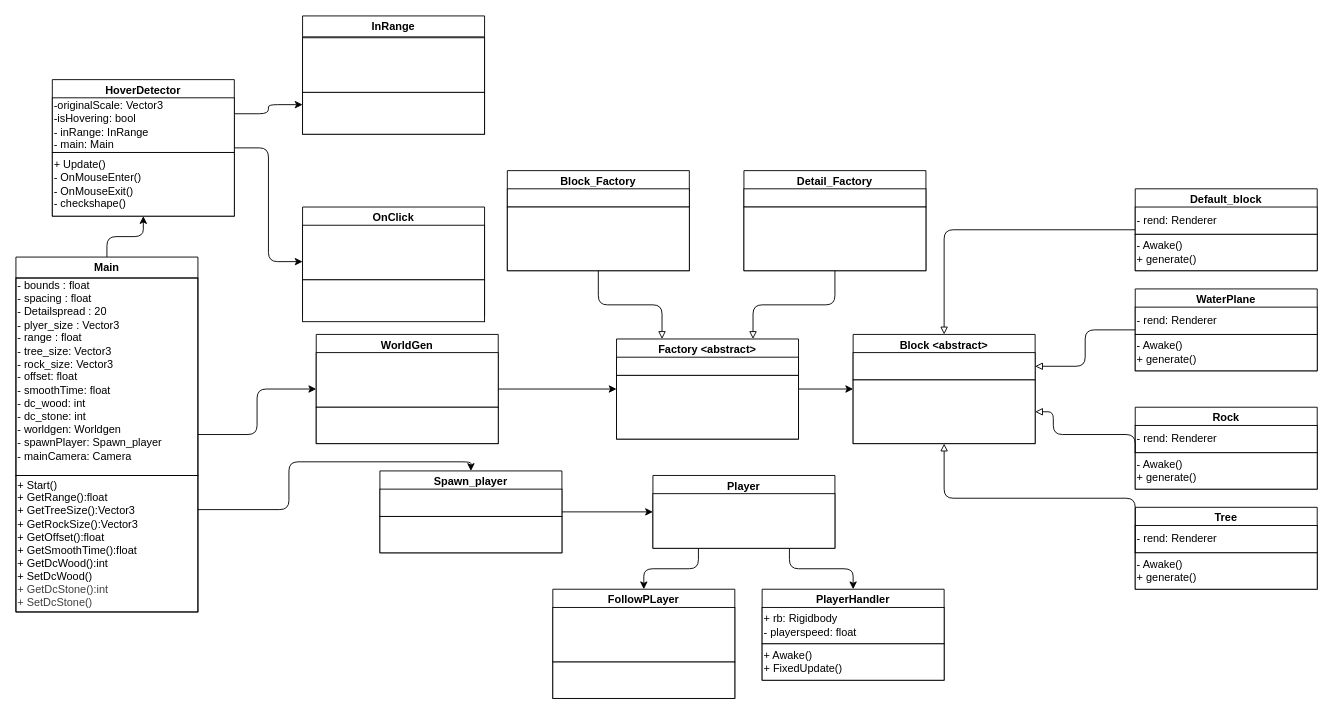
This 1333x714 diagram has some shape labels left out. The shapes that lost their labels are listed below. From the top down, each one's centre as x and y in pixels, then its label:
At pixel 393 64: "- playerTransform: Transform - main: Main".
At pixel 393 112: "- Start() - IsPlayerInRange(): bool".
At pixel 393 252: "- inRange: InRange - main: Main".
At pixel 597 238: "+ Block_factory() + Generate(type:string):object".
At pixel 834 238: "+ Detail_factory() + Generate(type:string):object".
At pixel 393 300: "- OnMouseDown()".
At pixel 406 379: "- block_factory: Factory - detail_factory: Factory - rdetail: System.Random".
At pixel 943 366: "# block: GameObject".
At pixel 406 425: "+ Worldgen() + GenerateWorld()".
At pixel 707 406: "+ Factory() + Generate(type:string):object".
At pixel 943 411: "+ Block() + GetBlock():GameObject + generate()".
At pixel 470 502: "- cameraScript: FollowPlayer".
At pixel 743 520: "- Transform - Rigidbody - PlayerHandler".
At pixel 470 534: "+ SpawnPLayer(playersize: Vector3)".
At pixel 643 634: "- cameraTarget: Transform - roffset: float - smoothTime: float - main: Main".
At pixel 643 679: "+ Start() + FixedUpdate()".
